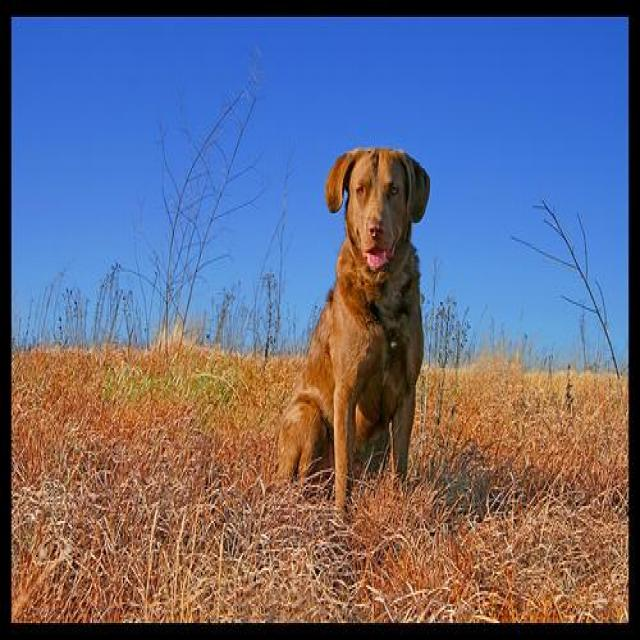sitting: (272, 144, 436, 521)
